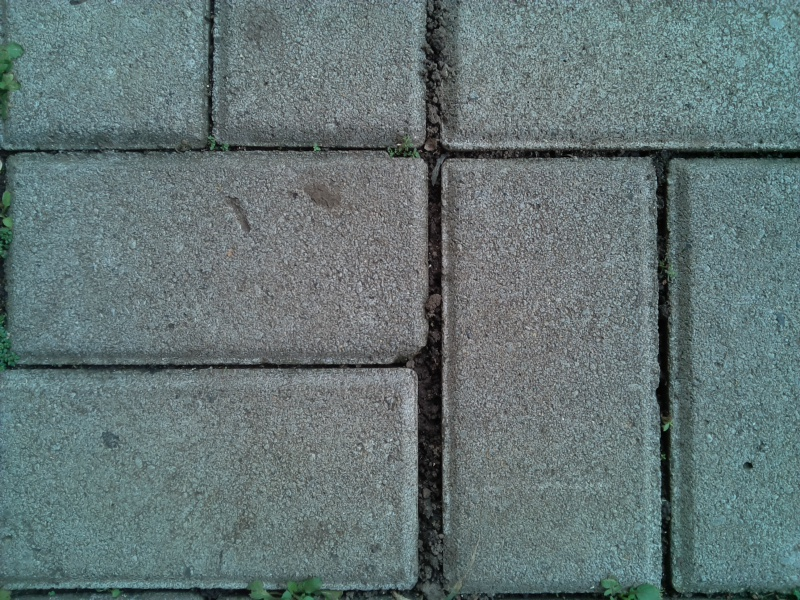Weed: (379, 130, 424, 169), (200, 131, 238, 161), (655, 409, 679, 441), (660, 259, 682, 293), (306, 137, 324, 160)
